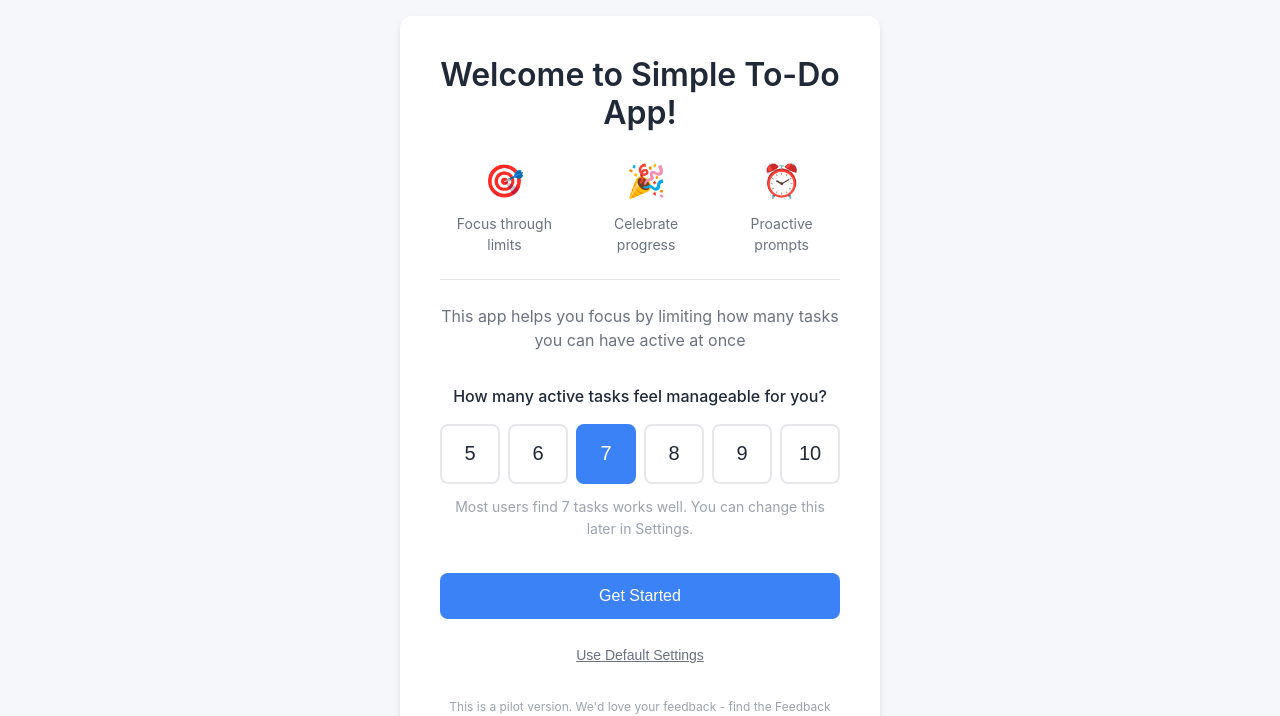
Scenario: First-Launch Flow Integration Test › should use default WIP limit 7 when Use Default Settings is clicked
Check: the heading "Welcome to Simple To-Do App!" is shown, box x1=440 y1=56 x2=840 y2=133
Click the radio button named "Select WIP limit 5": (470, 454) x1=440 y1=424 x2=500 y2=484
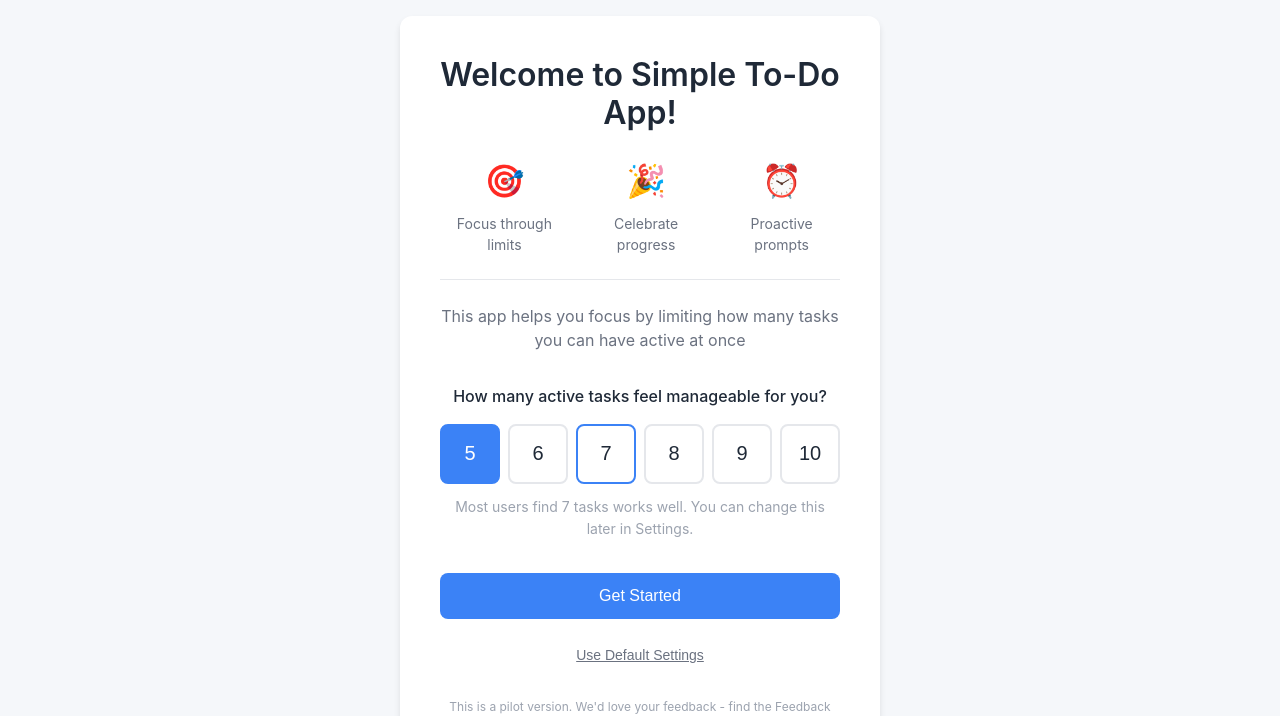
# Click Use Default Settings (should use 7, not 5)
Click the button "Use Default Settings": (640, 655) x1=440 y1=635 x2=840 y2=675
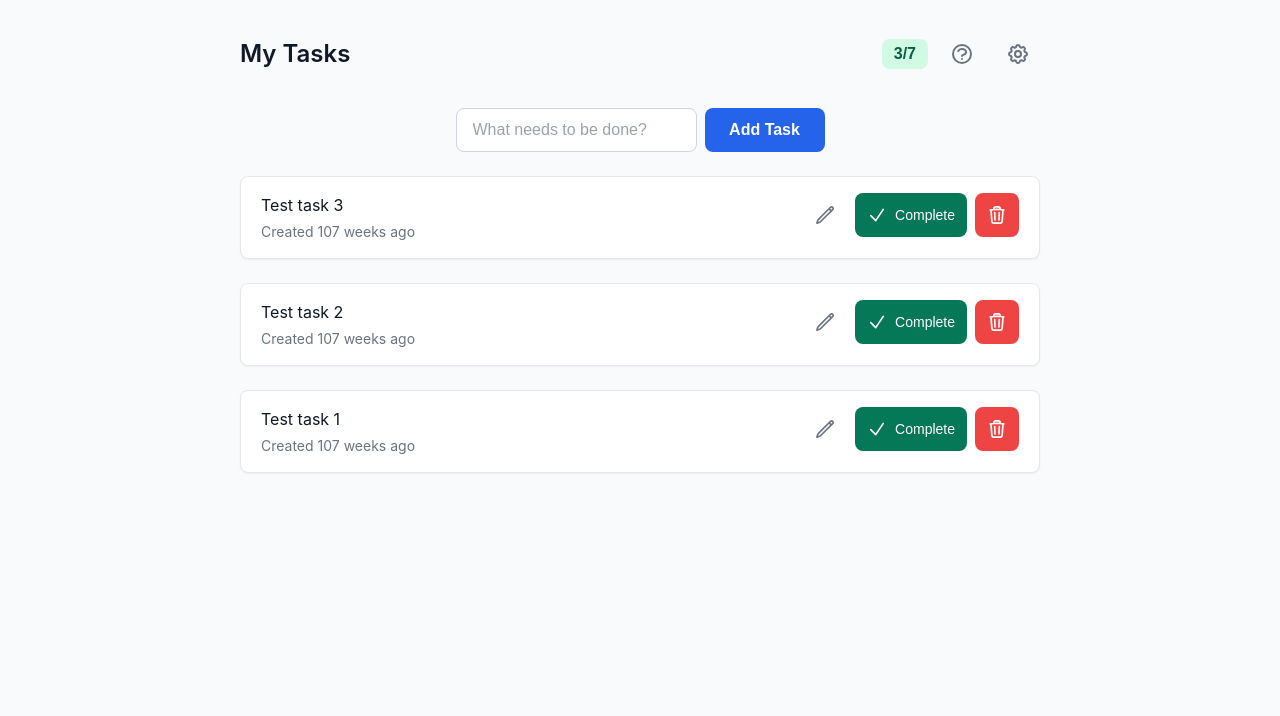
Check: the heading "Welcome to Simple To-Do App!" is gone
